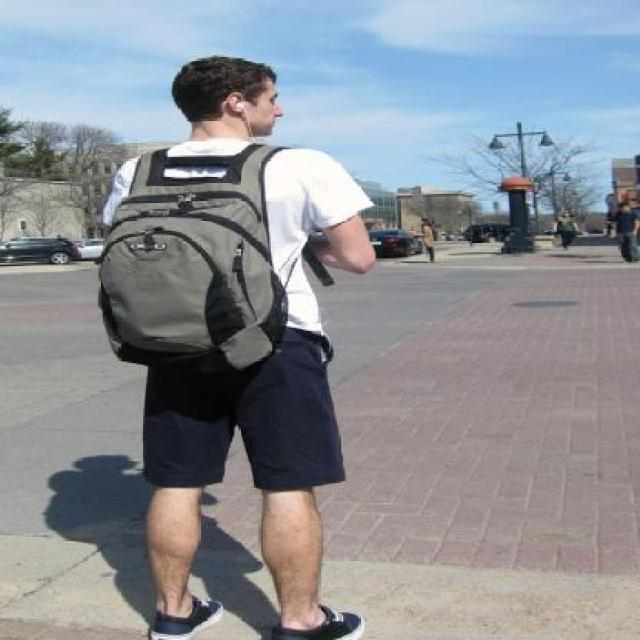backpack: (89, 138, 305, 374)
